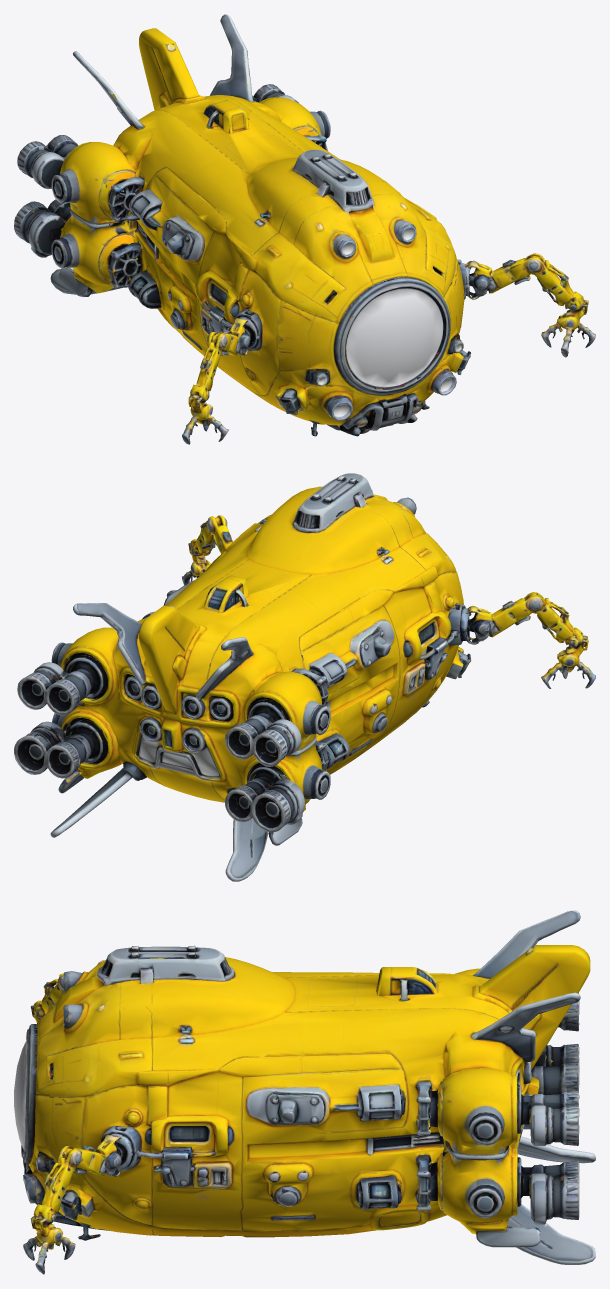
3 views of the same model, one above another, from view 1: azimuth 30°, elevation 25°; view 2: azimuth 150°, elevation 25°; view 3: azimuth 270°, elevation 25° (orthographic). The views are drawn at different scales.
Parts seen in each view (by area): view 1: sub; view 2: sub; view 3: sub.
Part boxes in pixels (x1,y1,x2,y2): sub: (14, 14, 595, 444); sub: (14, 473, 595, 881); sub: (14, 910, 595, 1274).
Bounding box in the file's own units: 0.9228 × 0.5154 × 1.
Materials: 1 (1 with a texture image).
